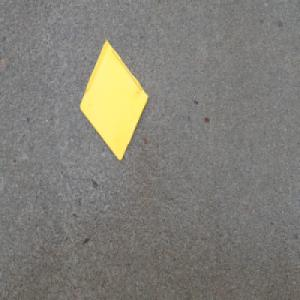PlasticPart: (78, 36, 149, 161)
